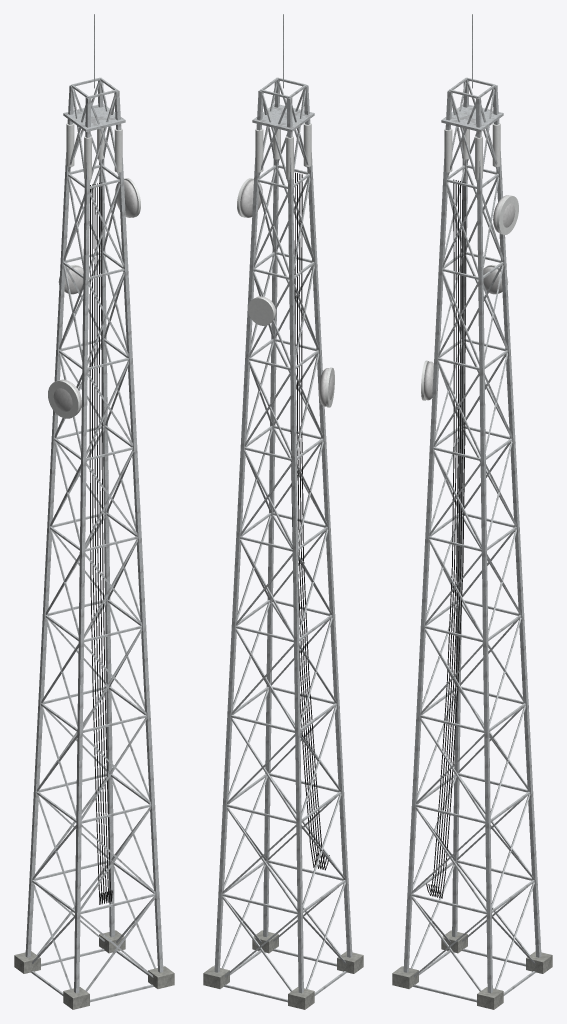
The model's file is D22b_Telecom_Tower.fbx.
3 views of the same model, side by side, from view 1: azimuth 30°, elevation 25°; view 2: azimuth 150°, elevation 25°; view 3: azimuth 330°, elevation 25° (orthographic).
Parts seen in each view (by area): view 1: Leg, Leg.001, Leg.003, Leg.002, Feeder_2, Feeder_5, Feeder_3, Feeder_0, Feeder_1, Feeder_4, Top_Platform, MW_Radome_3 (+5 smaller); view 2: Leg.003, Leg.002, Leg, Leg.001, Feeder_0, Feeder_1, Feeder_2, Top_Platform, MW_Radome_2, Feeder_3, MW_Dish_1, Leg_Footing.003 (+2 smaller); view 3: Leg.001, Leg, Leg.002, Leg.003, Feeder_5, Feeder_4, Feeder_0, Feeder_1, Feeder_3, Feeder_2, Top_Platform, MW_Radome_1 (+4 smaller).
Boxes of the visible parts, bbox=[...] form: Leg: bbox=[74, 97, 91, 993]; Leg.001: bbox=[114, 90, 163, 972]; Leg.003: bbox=[25, 85, 74, 957]; Leg.002: bbox=[98, 77, 114, 937]; Feeder_2: bbox=[94, 184, 105, 903]; Feeder_5: bbox=[101, 182, 112, 901]; Feeder_3: bbox=[96, 183, 107, 903]; Feeder_0: bbox=[89, 185, 101, 904]; Feeder_1: bbox=[92, 184, 103, 904]; Feeder_4: bbox=[99, 182, 110, 902]; Top_Platform: bbox=[63, 104, 125, 131]; MW_Radome_3: bbox=[48, 380, 79, 418]; Leg.003: bbox=[286, 97, 303, 993]; Leg.002: bbox=[214, 90, 263, 972]; Leg: bbox=[303, 85, 352, 957]; Leg.001: bbox=[263, 77, 279, 937]; Feeder_0: bbox=[301, 174, 329, 870]; Feeder_1: bbox=[299, 173, 326, 869]; Feeder_2: bbox=[297, 173, 324, 869]; Top_Platform: bbox=[252, 104, 314, 131]; MW_Radome_2: bbox=[247, 297, 274, 325]; Feeder_3: bbox=[294, 172, 322, 868]; MW_Dish_1: bbox=[240, 179, 262, 217]; Leg_Footing.003: bbox=[288, 987, 314, 1009]; Leg.001: bbox=[475, 97, 492, 993]; Leg: bbox=[403, 90, 452, 972]; Leg.002: bbox=[492, 85, 541, 957]; Leg.003: bbox=[452, 77, 469, 937]; Feeder_5: bbox=[437, 182, 465, 898]; Feeder_4: bbox=[435, 181, 463, 897]; Feeder_0: bbox=[426, 179, 454, 895]; Feeder_1: bbox=[428, 180, 456, 896]; Feeder_3: bbox=[433, 181, 461, 897]; Feeder_2: bbox=[430, 180, 458, 896]; Top_Platform: bbox=[441, 104, 503, 131]; MW_Radome_1: bbox=[496, 195, 518, 234].
Bounding box in the file's own units: 3.6 × 32.53 × 3.6.
5 materials, 4 textured.
